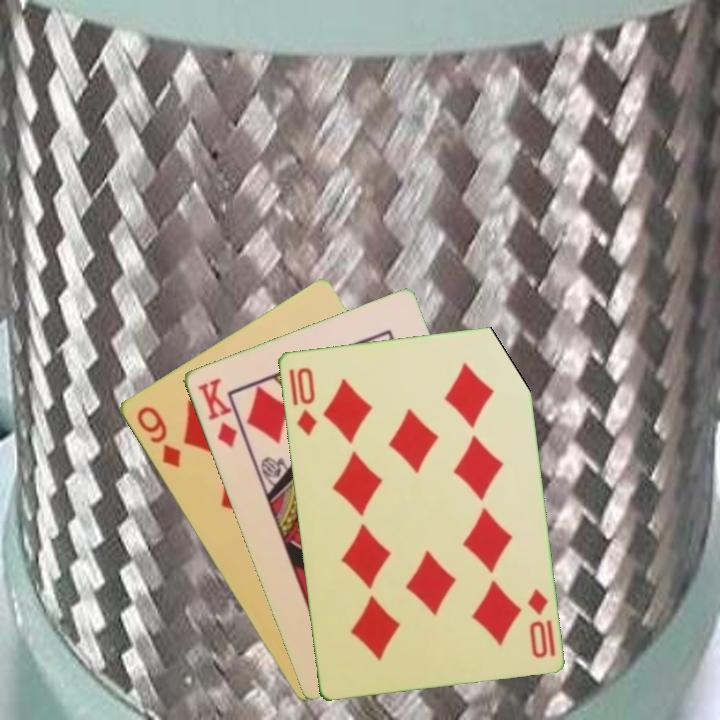10d: (524, 584, 550, 661), (293, 363, 319, 439)
9d: (132, 402, 184, 471)
Kd: (193, 374, 240, 451)
